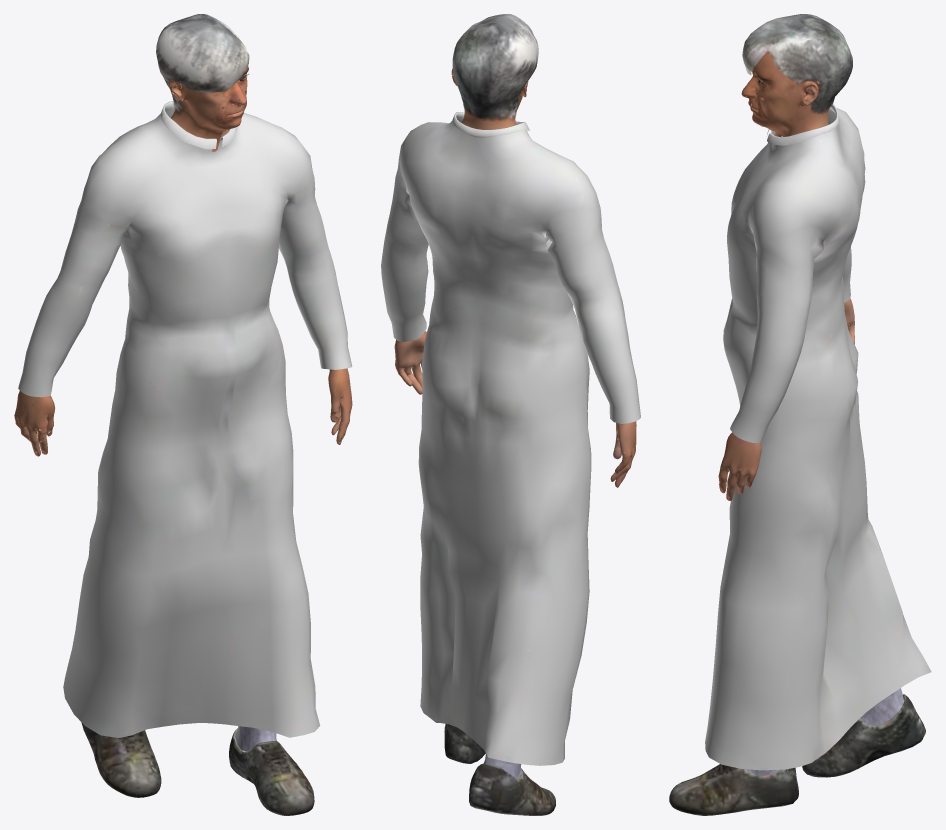
3 renders of one model, left to right at view 1: azimuth 30°, elevation 25°; view 2: azimuth 150°, elevation 25°; view 3: azimuth 270°, elevation 25°, orthographic.
Visible parts, largest first — view 1: robesv1_w006; view 2: robesv1_w006; view 3: robesv1_w006.
Boxes of the visible parts, x1=… form: robesv1_w006: x1=14, y1=14, x2=352, y2=815; robesv1_w006: x1=381, y1=14, x2=640, y2=815; robesv1_w006: x1=669, y1=14, x2=931, y2=815.
Bounding box in the file's own units: 0.7327 × 1.87 × 0.5745.
Materials: 1 (1 with a texture image).
